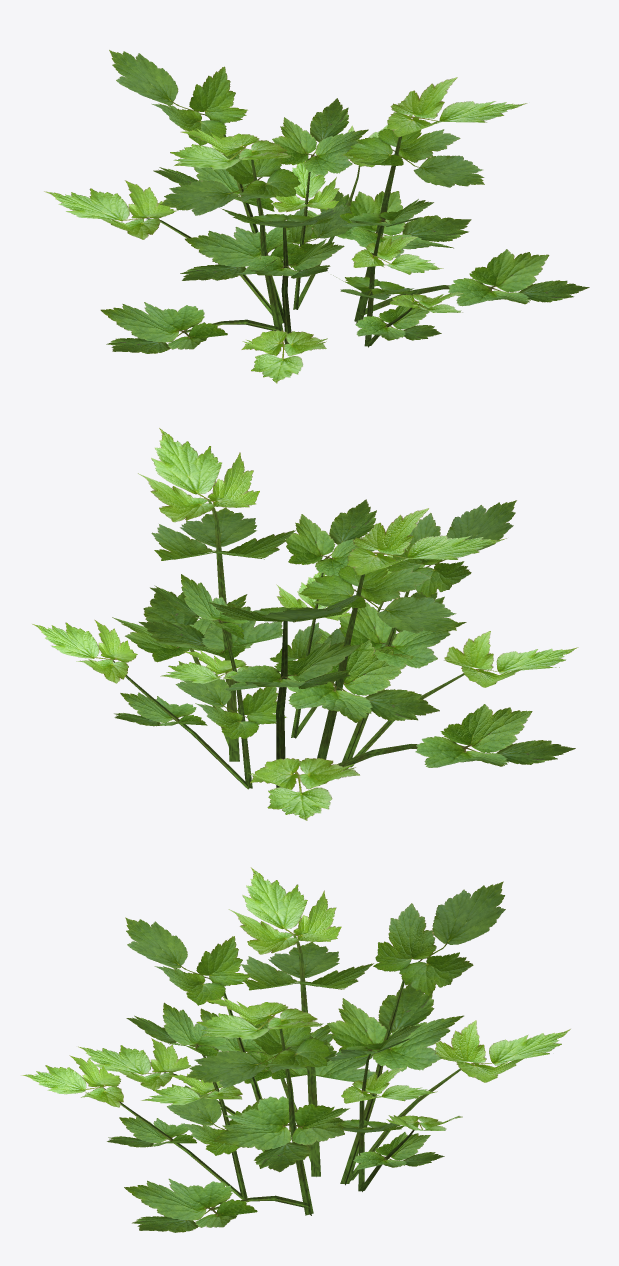
The model's file is m_grass_24.fbx.
The picture shows the model from 3 angles, top to bottom: view 1: azimuth 30°, elevation 25°; view 2: azimuth 150°, elevation 25°; view 3: azimuth 270°, elevation 25°; orthographic projection. The views are drawn at different scales.
Parts seen in each view (by area): view 1: mesh_grass_24_LOD0; view 2: mesh_grass_24_LOD0; view 3: mesh_grass_24_LOD0.
Boxes of the visible parts, x1,y1,x2,y2 form: mesh_grass_24_LOD0: [44, 50, 589, 383]; mesh_grass_24_LOD0: [32, 428, 578, 820]; mesh_grass_24_LOD0: [21, 867, 570, 1232].
Size of what is drawn, in the model's own units: 107 by 51.95 by 108.
